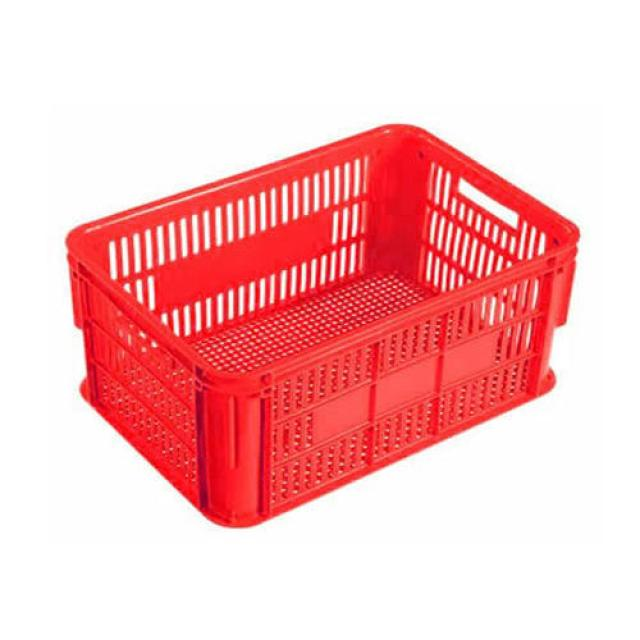basket: (17, 38, 636, 570)
